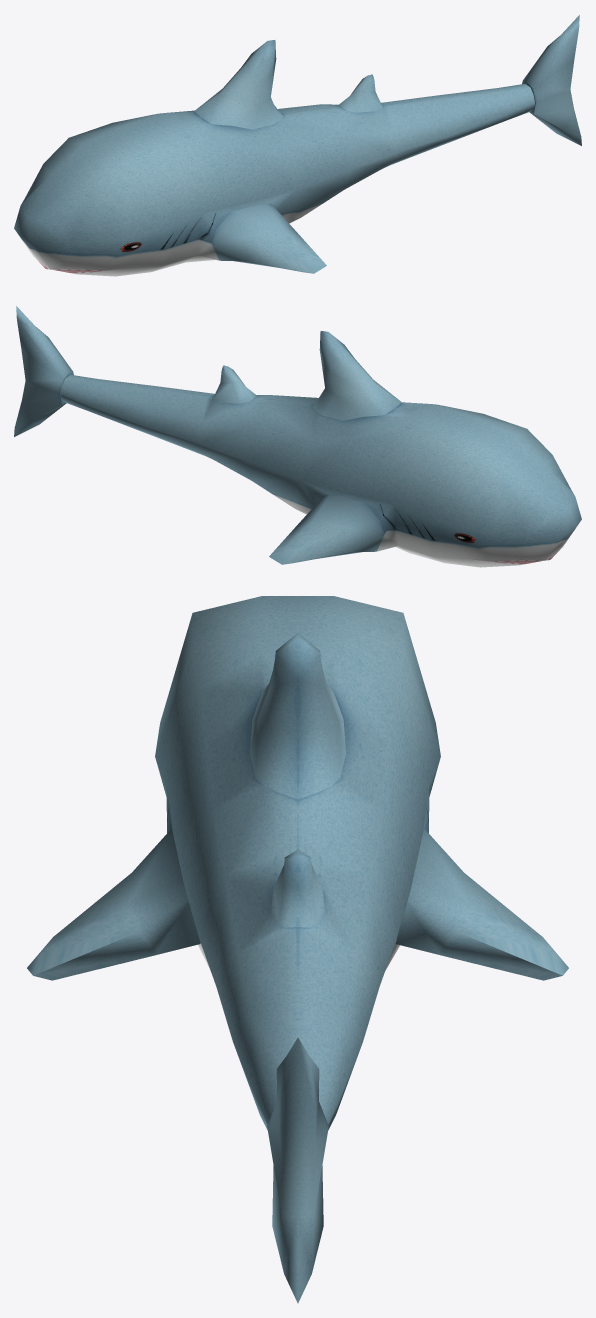
File: blåhaj.fbx
3 renders of one model, top to bottom at view 1: azimuth 30°, elevation 25°; view 2: azimuth 150°, elevation 25°; view 3: azimuth 270°, elevation 25°, orthographic. The views are drawn at different scales.
Visible parts, largest first — view 1: Plane; view 2: Plane; view 3: Plane.
Part boxes in pixels (x1,y1,x2,y2): Plane: [14, 15, 581, 276]; Plane: [14, 306, 581, 567]; Plane: [27, 596, 568, 1303].
Bounding box in the file's own units: 0.9626 × 0.3168 × 0.4016.
